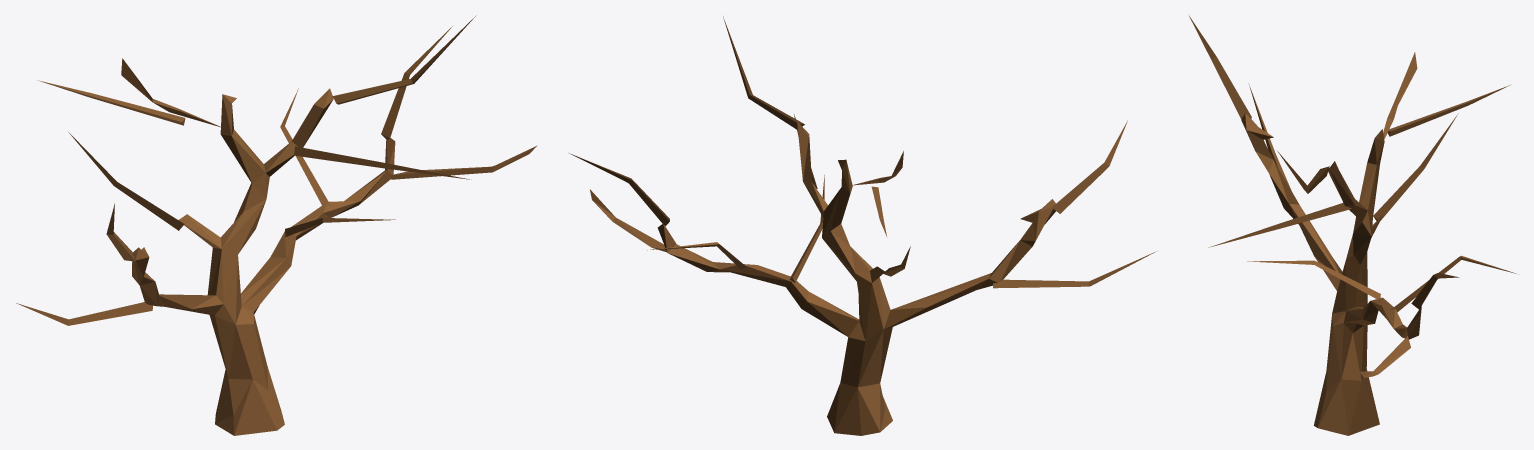
Rendered from cherry_1_bare_far.glb.
The picture shows the model from 3 angles, left to right: view 1: azimuth 30°, elevation 25°; view 2: azimuth 150°, elevation 25°; view 3: azimuth 270°, elevation 25°; orthographic projection. The views are drawn at different scales.
Parts seen in each view (by area): view 1: cherry_1_bare_far; view 2: cherry_1_bare_far; view 3: cherry_1_bare_far.
Part boxes in pixels (left/top/right/bottom): cherry_1_bare_far: left=16, top=15, right=537, bottom=435; cherry_1_bare_far: left=569, top=16, right=1155, bottom=435; cherry_1_bare_far: left=1189, top=16, right=1516, bottom=435.
Size of the model in its own units: 9.14 by 5.8 by 4.89.
